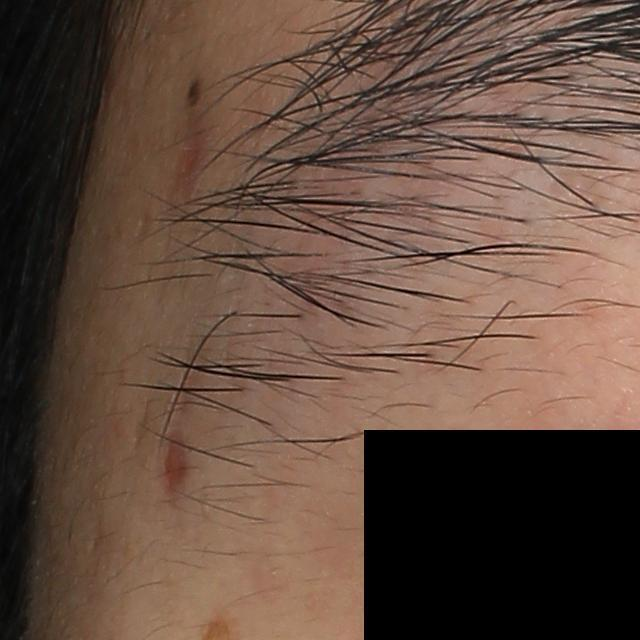nevus: (184, 75, 202, 111)
